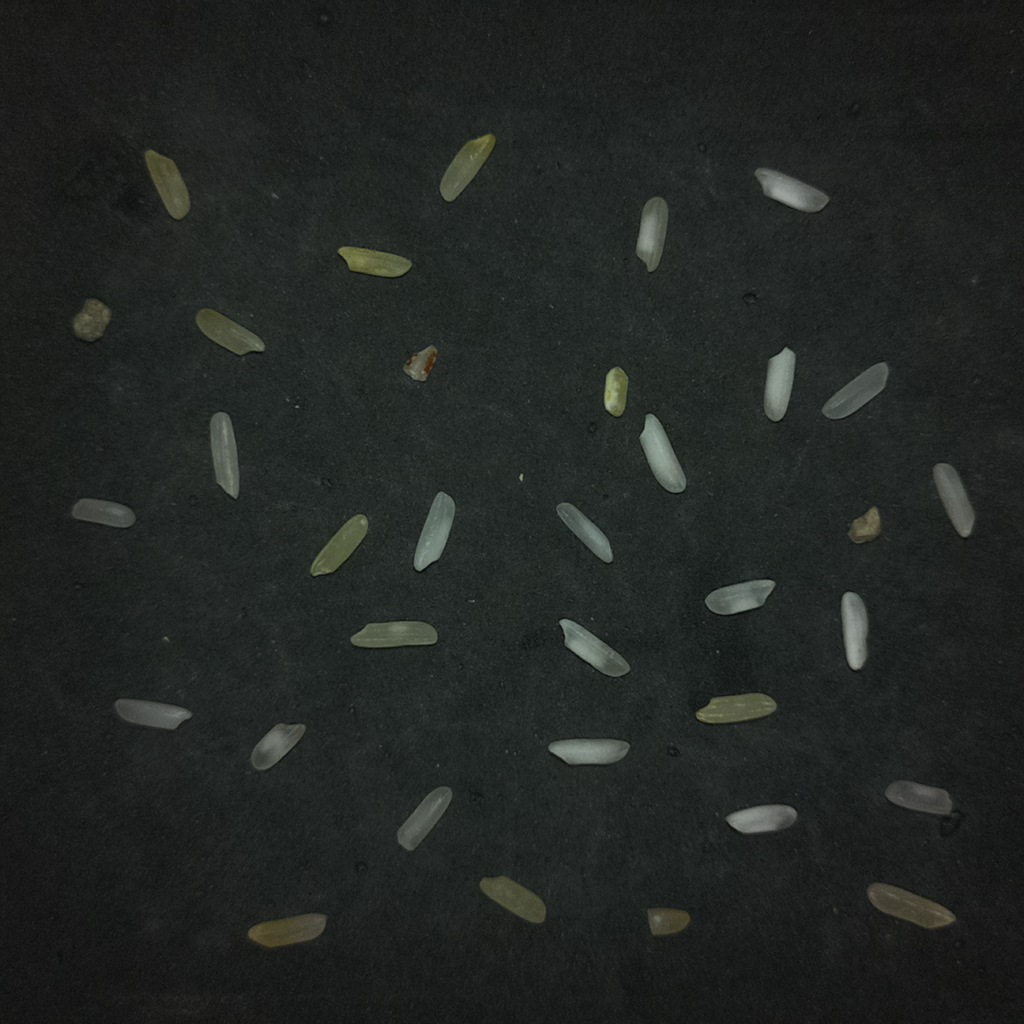broken: (195, 308, 264, 355), (251, 723, 305, 770), (705, 579, 775, 614)
chalky: (640, 414, 685, 492), (763, 347, 795, 421), (841, 592, 868, 670), (548, 738, 629, 764), (726, 804, 797, 833), (647, 908, 690, 935)
discolored: (439, 133, 496, 202), (310, 514, 367, 576), (144, 150, 189, 219), (479, 876, 545, 923), (248, 913, 326, 947), (696, 692, 776, 723), (350, 620, 437, 648), (338, 246, 411, 277), (604, 366, 628, 416)
foreign: (71, 298, 111, 341), (848, 506, 880, 543)
red: (402, 341, 441, 385)
whole: (559, 618, 629, 677), (867, 882, 954, 929), (822, 363, 888, 419), (398, 786, 452, 850), (556, 502, 612, 563), (754, 167, 828, 212), (414, 491, 455, 571), (933, 463, 974, 537), (211, 412, 239, 498), (636, 197, 668, 272), (114, 698, 191, 729), (885, 780, 952, 815), (71, 498, 135, 527)
